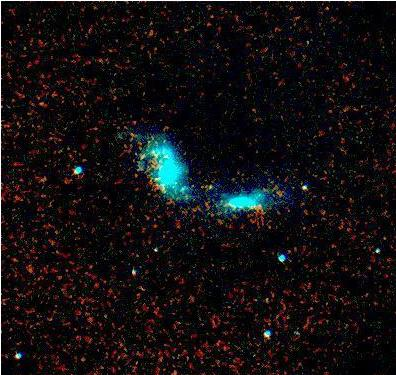star: (191, 168, 221, 198)
